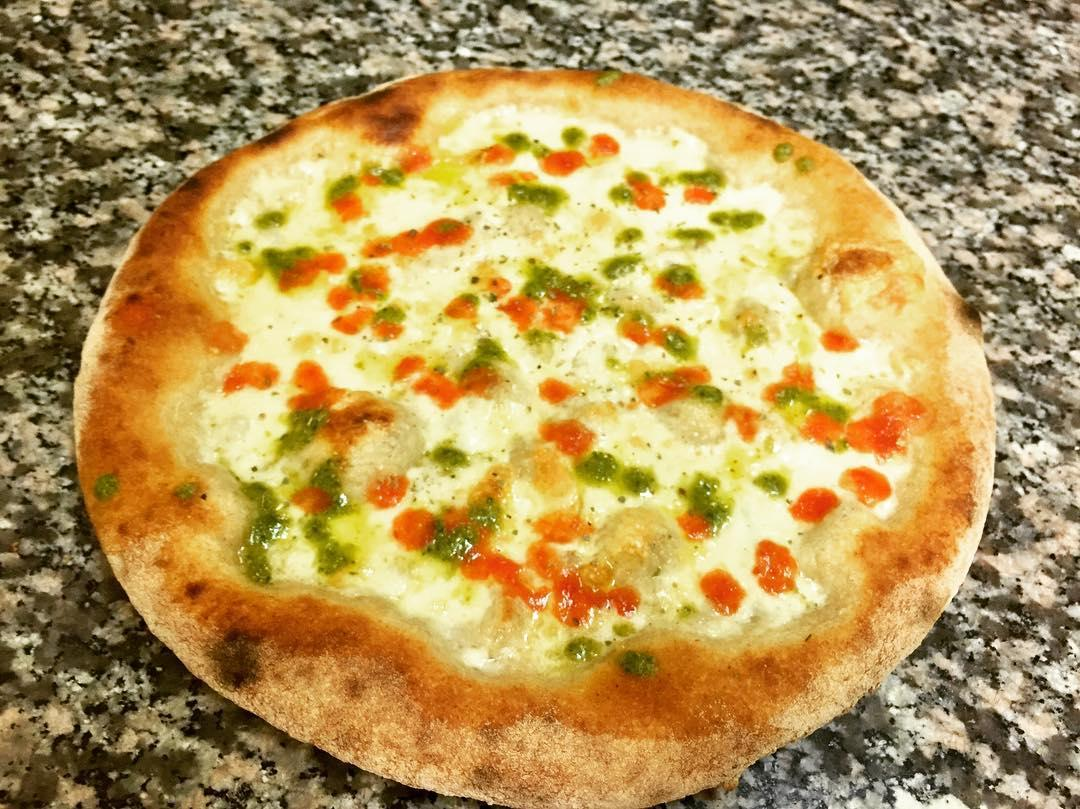Pizza: (75, 69, 998, 809)
Tomatoes: (556, 576, 640, 623), (367, 219, 470, 256), (808, 413, 910, 450), (418, 371, 499, 403), (641, 367, 706, 406), (508, 298, 584, 329), (284, 252, 345, 287), (757, 541, 795, 594), (465, 551, 520, 583), (701, 572, 742, 613), (847, 467, 891, 504), (794, 489, 839, 522), (394, 512, 434, 547), (544, 151, 586, 175), (678, 515, 712, 538), (371, 473, 394, 493)
